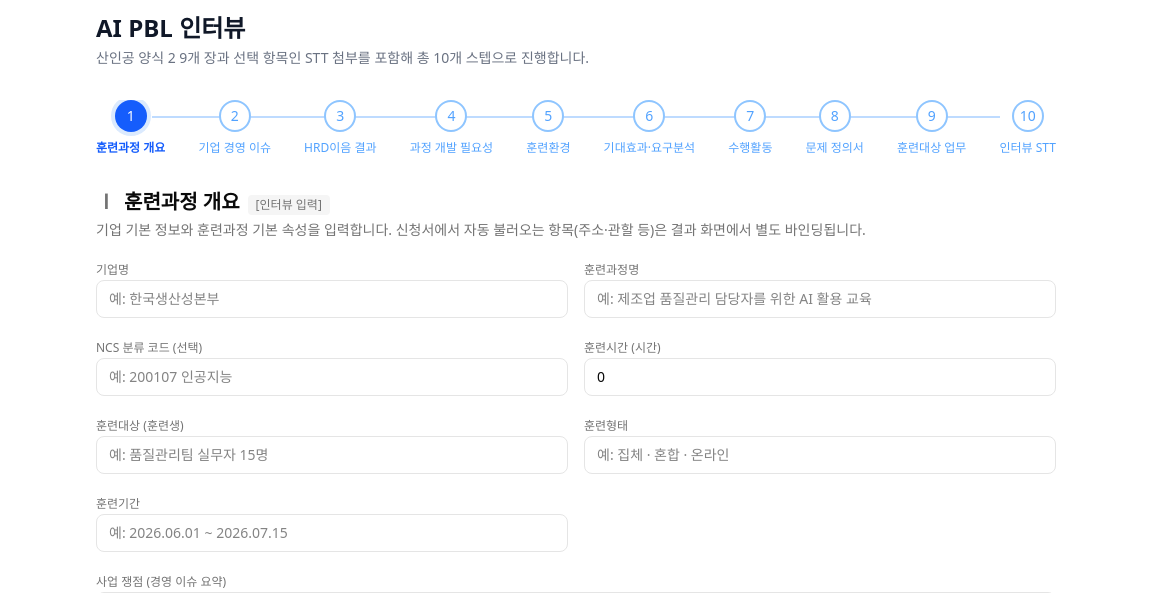
Test case: PBLInterviewClient › PBL Ⅱ-3-가: Stepper 단축 라벨 "HRD이음 결과" + 페이지 헤더 풀텍스트 노출 (#10 PBL)
The image size is (1152, 593).
Click the text "HRD이음 결과": (340, 148) x1=304 y1=140 x2=376 y2=156
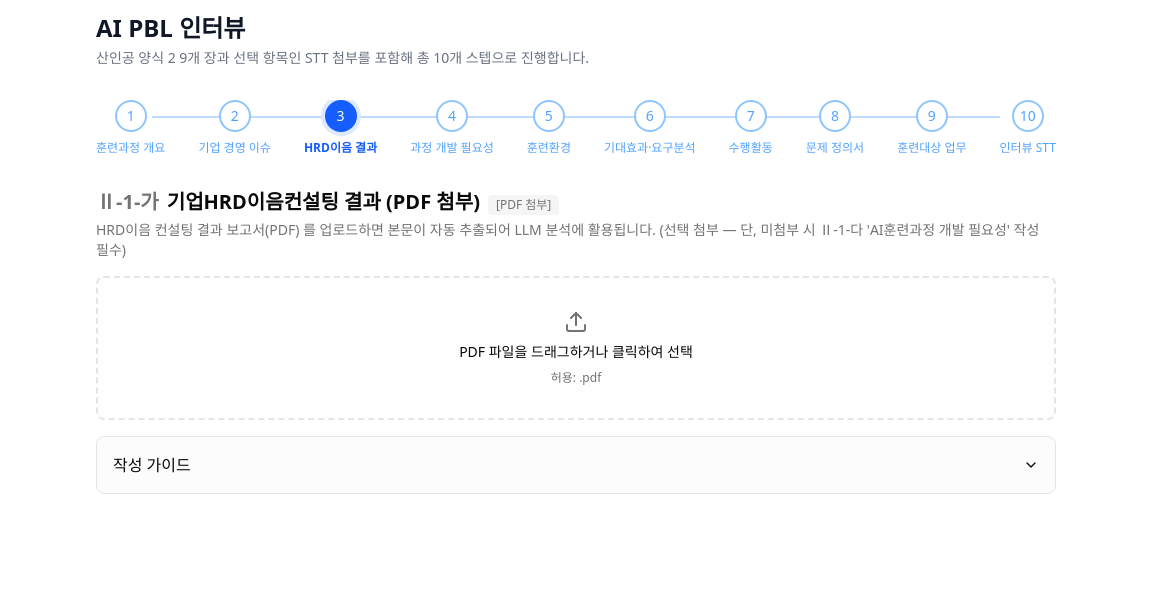
Result: the heading "기업HRD이음컨설팅 결과 (PDF 첨부)" is shown at x1=167 y1=188 x2=480 y2=216
